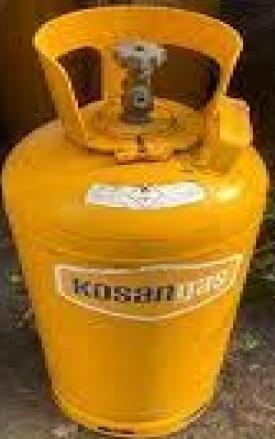cylinder: (1, 1, 275, 439)
